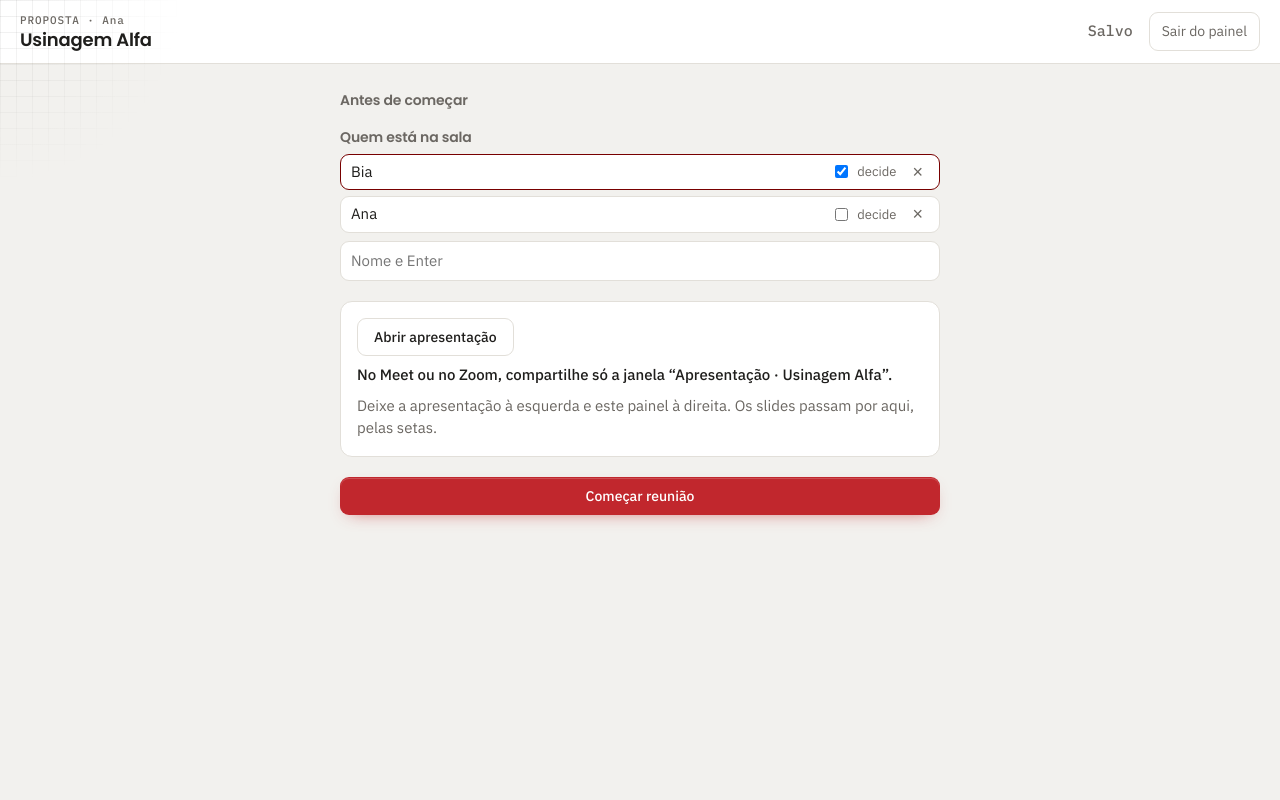
Test: anotação fica carimbada com o slide e o minuto
Click the button "Começar reunião": (640,496) [340,477,940,515]
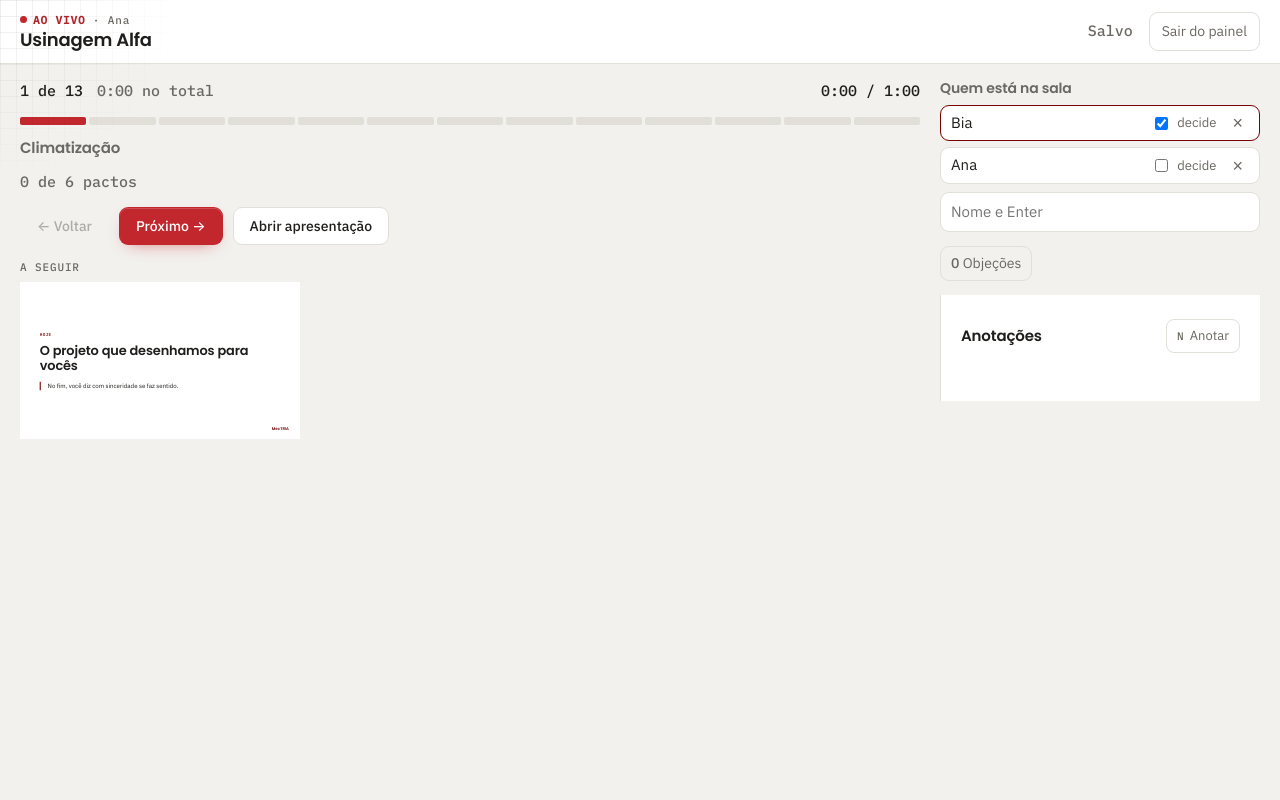
Now the text "1 de 13" is shown, box [20,80,83,102]
Type keys "{ArrowRight}n"
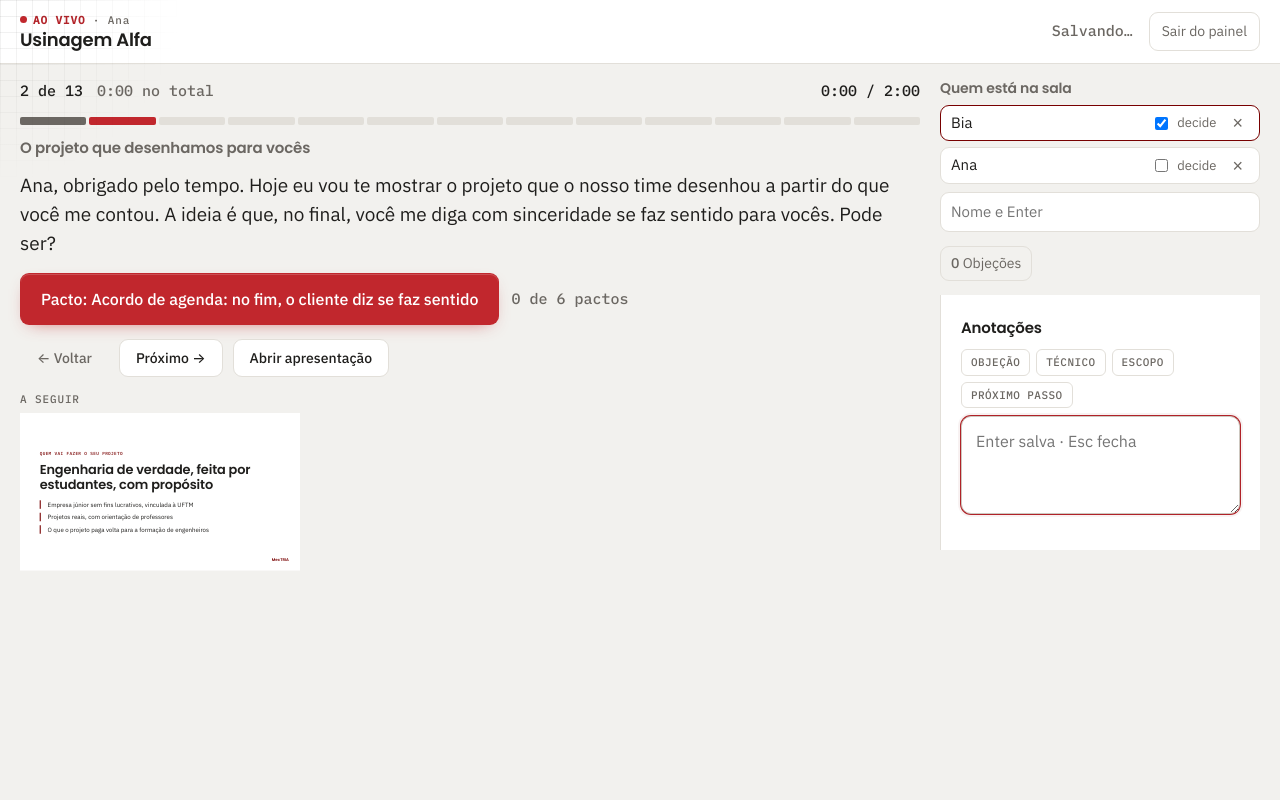
Click the button "Técnico": (1071,363) [1036,349,1106,376]
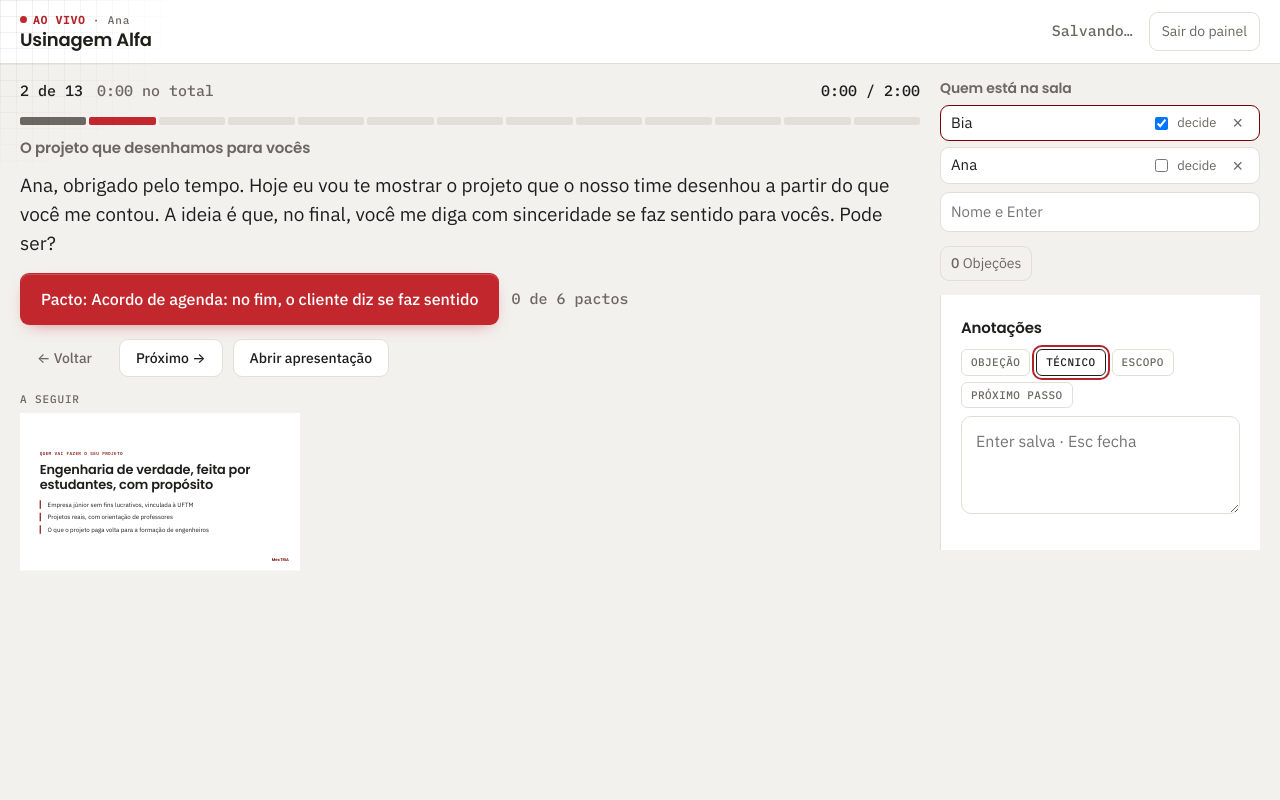
In the text box named "Anotação": (1100,465) [961,416,1240,514], type "Telhado de fibrocimento"
Then press Enter
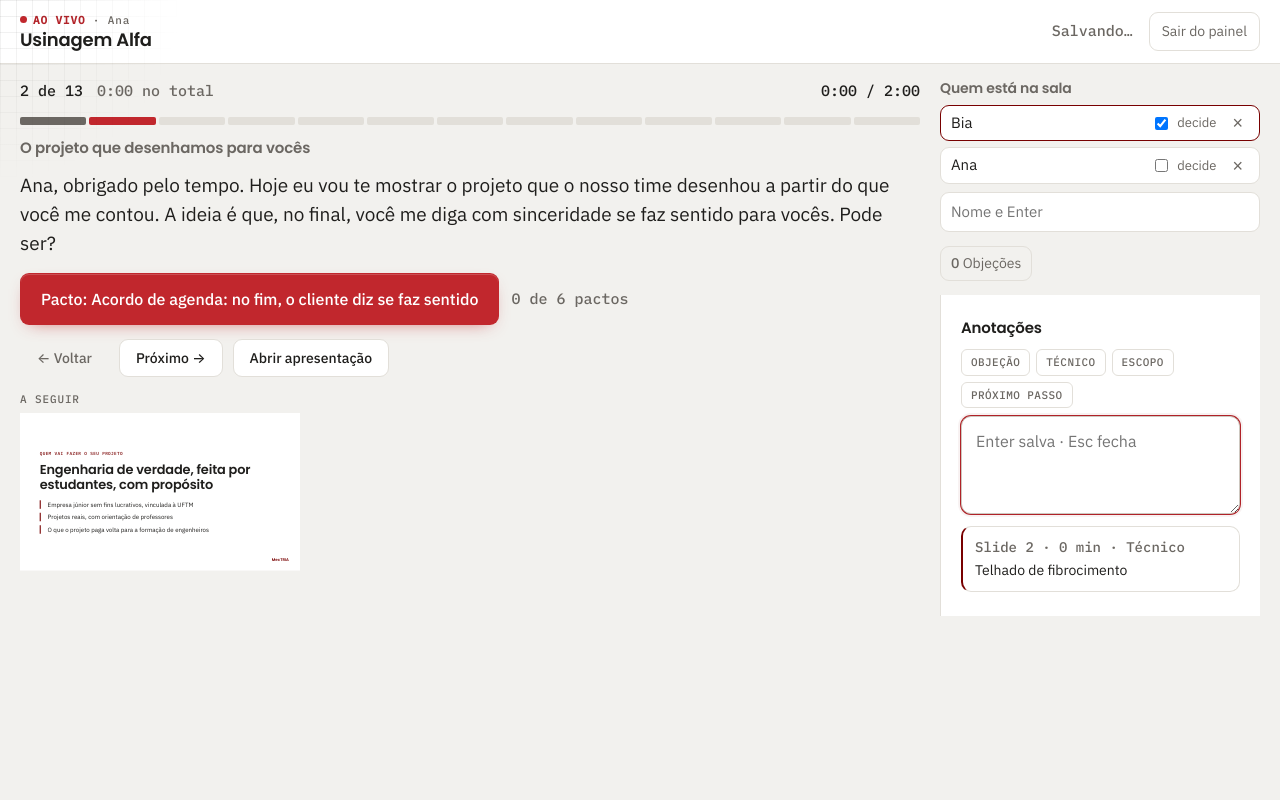
Now the list named "Anotações" reads "Slide 2 · 0 min · Técnico Telhado de fibrocimento", box [961,526,1240,592]
